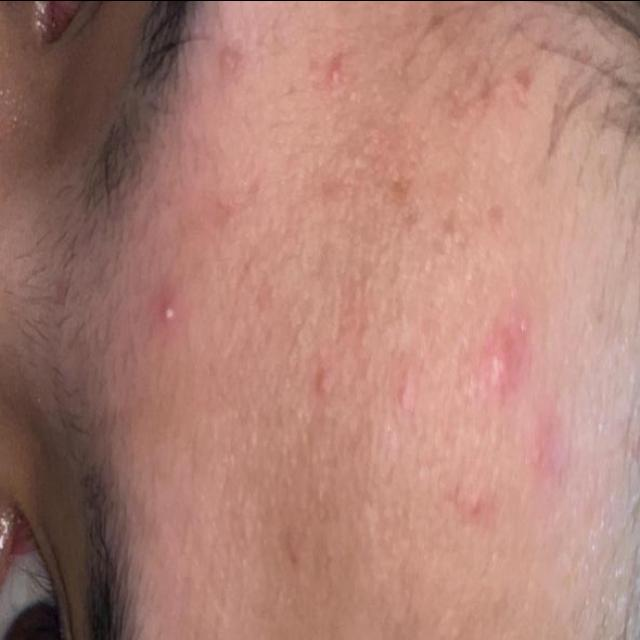papule: (434, 270, 586, 578)
pustule: (132, 295, 198, 330), (317, 51, 360, 94)
